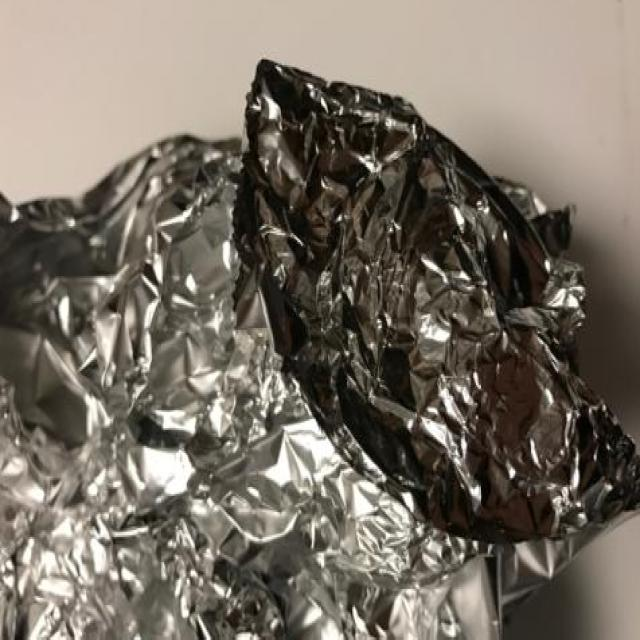metal: (0, 61, 640, 639)
